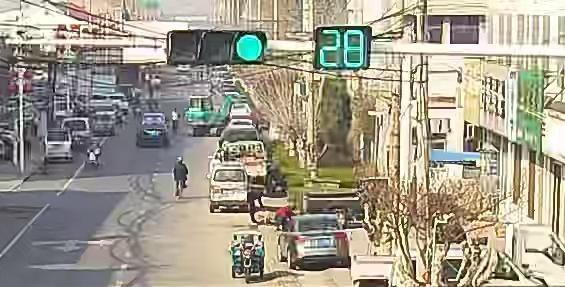green: (233, 31, 265, 61)
greentime: (318, 27, 370, 68)
